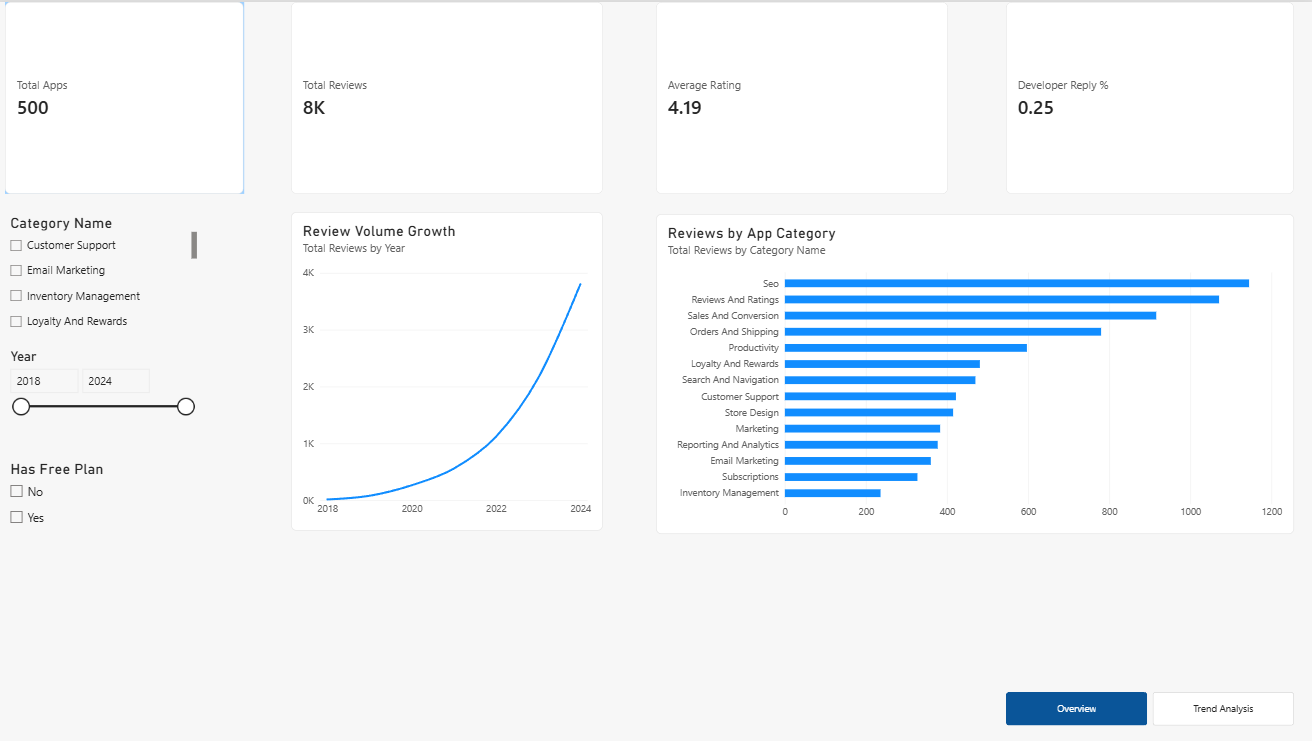

The page's visual inventory and layout, read from the dashboard file:
{"tool":"powerbi","page":{"name":"Overview","canvas":[1920,1080],"ordinal":0},"visuals":[{"type":"cardVisual","fields":{"Data":["apps.Total Apps"]},"box":[10.2,0,348.7,280.1],"z":0},{"type":"cardVisual","fields":{"Data":["reviews.Total Reviews"]},"box":[427.5,0,455.2,280.1],"z":1000},{"type":"cardVisual","fields":{"Data":["reviews.Average Rating"]},"box":[960,0,426,280.1],"z":2000},{"type":"cardVisual","fields":{"Data":["reviews.Developer Reply %"]},"box":[1470.6,0,420.2,280.1],"z":3000},{"type":"slicer","fields":{"Values":["apps.category_name"]},"box":[10.2,309.3,280.1,169.2],"z":4000},{"type":"slicer","fields":{"Values":["dim_date.Year"]},"box":[10.2,506.3,280.1,147.4],"z":5000},{"type":"slicer","fields":{"Values":["apps.has_free_plan"]},"box":[10.2,668.2,280.1,108],"z":6000},{"type":"lineChart","title":"Review Volume Growth","fields":{"Category":["dim_date.Year"],"Y":["reviews.Total Reviews"]},"box":[427.5,306.4,455.2,465.4],"z":7000},{"type":"clusteredBarChart","title":"Reviews by App Category","fields":{"Category":["apps.category_name"],"Y":["reviews.Total Reviews"]},"box":[960,309.3,930.8,466.9],"z":8000},{"type":"pageNavigator","box":[1470.6,1006.7,420.2,49.6],"z":9000}]}

Visuals, with their boxes in screenshot pixels (x1, y1, x2, y2), scaled from the page's 1920x1080 canvas onto the 1312x741 screenshot:
cardVisual - apps.Total Apps: [left=7, top=0, right=245, bottom=192]
cardVisual - reviews.Total Reviews: [left=292, top=0, right=603, bottom=192]
cardVisual - reviews.Average Rating: [left=656, top=0, right=947, bottom=192]
cardVisual - reviews.Developer Reply %: [left=1005, top=0, right=1292, bottom=192]
slicer - apps.category_name: [left=7, top=212, right=198, bottom=328]
slicer - dim_date.Year: [left=7, top=347, right=198, bottom=449]
slicer - apps.has_free_plan: [left=7, top=458, right=198, bottom=533]
"Review Volume Growth" lineChart: [left=292, top=210, right=603, bottom=530]
"Reviews by App Category" clusteredBarChart: [left=656, top=212, right=1292, bottom=533]
pageNavigator: [left=1005, top=691, right=1292, bottom=725]
